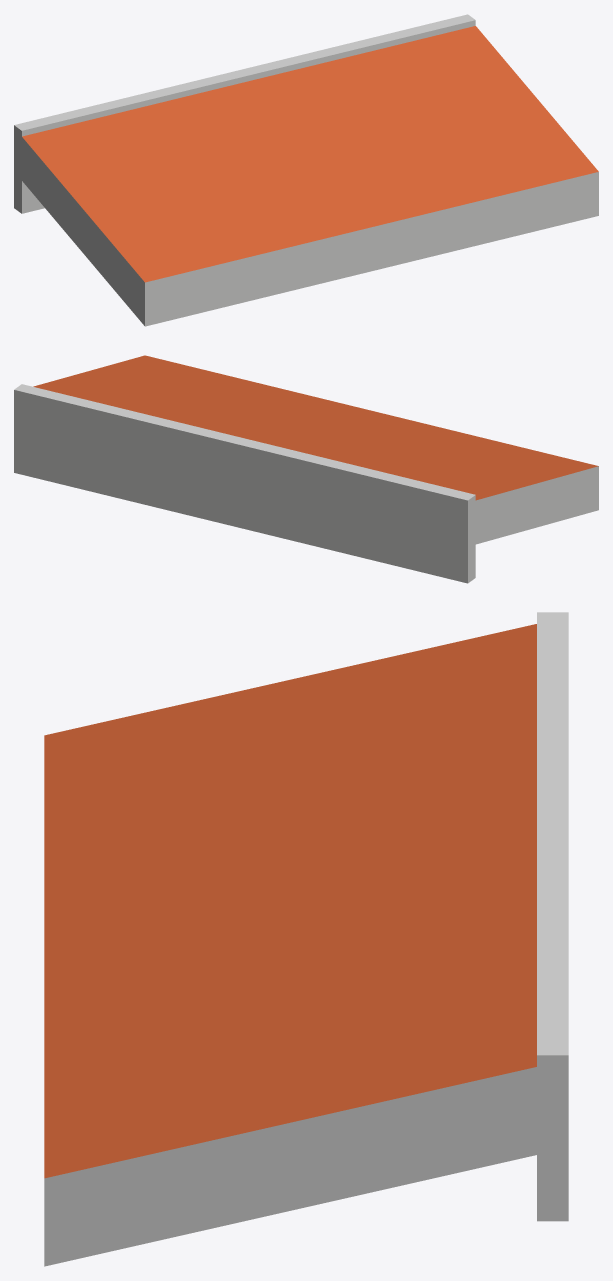
Rendered from telhado_beiral_alto_i25_1m.glb.
3 renders of one model, top to bottom at view 1: azimuth 30°, elevation 25°; view 2: azimuth 150°, elevation 25°; view 3: azimuth 270°, elevation 25°, orthographic. The views are drawn at different scales.
Parts seen in each view (by area): view 1: telhado_beiral_alto_i25_1m; view 2: telhado_beiral_alto_i25_1m; view 3: telhado_beiral_alto_i25_1m.
Boxes of the visible parts, x1,y1,x2,y2 form: telhado_beiral_alto_i25_1m: [14, 14, 598, 326]; telhado_beiral_alto_i25_1m: [14, 355, 598, 583]; telhado_beiral_alto_i25_1m: [44, 612, 568, 1266].
Bounding box in the file's own units: 1 × 0.2223 × 0.5.
